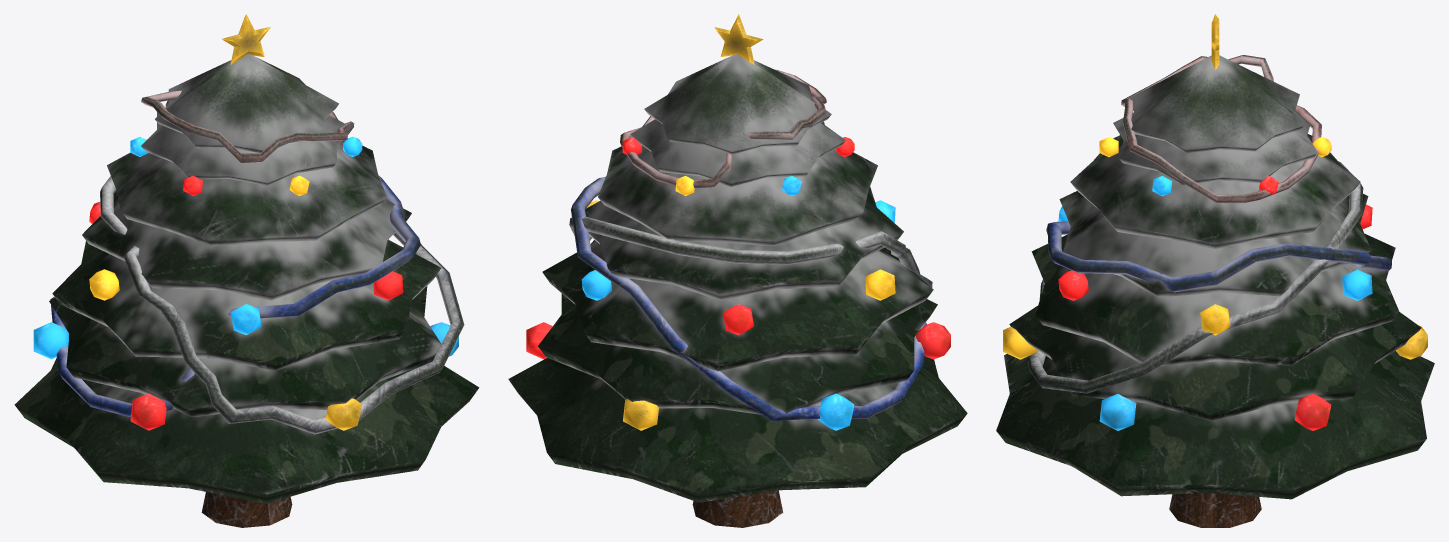
The model's file is Arbol Navidad.fbx.
3 views of the same model, side by side, from view 1: azimuth 30°, elevation 25°; view 2: azimuth 150°, elevation 25°; view 3: azimuth 270°, elevation 25° (orthographic).
Parts seen in each view (by area): view 1: Circle.001, Circle.002, Circle.005, Circle.003, Circle.006, Circle.004, BézierCurve, Circle.007, BézierCurve.001, Icosphere, BézierCurve.002, Icosphere.001 (+3 smaller); view 2: Circle.001, Circle.002, Circle.005, Circle.003, Circle.006, Circle.004, Circle.007, BézierCurve.001, BézierCurve, Icosphere, Icosphere.001, Circle (+3 smaller); view 3: Circle.001, Circle.002, Circle.005, Circle.003, Circle.006, Circle.004, Circle.007, BézierCurve.001, BézierCurve, Icosphere, BézierCurve.002, Circle (+2 smaller).
Boxes of the visible parts, bbox=[...] form: Circle.001: bbox=[14, 334, 479, 503]; Circle.002: bbox=[52, 239, 441, 370]; Circle.005: bbox=[49, 286, 441, 417]; Circle.003: bbox=[107, 140, 386, 246]; Circle.006: bbox=[82, 191, 411, 300]; Circle.004: bbox=[155, 54, 338, 152]; BézierCurve: bbox=[100, 176, 464, 434]; Circle.007: bbox=[141, 107, 352, 185]; BézierCurve.001: bbox=[50, 175, 420, 417]; Icosphere: bbox=[33, 322, 458, 430]; BézierCurve.002: bbox=[141, 90, 354, 162]; Icosphere.001: bbox=[89, 202, 403, 335]; Circle.001: bbox=[508, 356, 967, 502]; Circle.002: bbox=[542, 240, 933, 371]; Circle.005: bbox=[538, 293, 937, 414]; Circle.003: bbox=[598, 145, 877, 246]; Circle.006: bbox=[585, 186, 903, 300]; Circle.004: bbox=[644, 54, 831, 154]; Circle.007: bbox=[630, 119, 845, 186]; BézierCurve.001: bbox=[571, 176, 926, 420]; BézierCurve: bbox=[569, 216, 932, 287]; Icosphere: bbox=[526, 322, 950, 430]; Icosphere.001: bbox=[581, 200, 895, 335]; Circle: bbox=[692, 490, 783, 527]; Circle.001: bbox=[996, 350, 1434, 499]; Circle.002: bbox=[1031, 234, 1399, 366]; Circle.005: bbox=[1009, 306, 1421, 421]; Circle.003: bbox=[1070, 134, 1360, 248]; Circle.006: bbox=[1059, 191, 1371, 297]; Circle.004: bbox=[1128, 55, 1304, 153]; Circle.007: bbox=[1113, 112, 1317, 185]; BézierCurve.001: bbox=[1046, 221, 1391, 292]; BézierCurve: bbox=[1027, 161, 1363, 393]; Icosphere: bbox=[1003, 325, 1427, 430]; BézierCurve.002: bbox=[1121, 55, 1321, 202]; Circle: bbox=[1169, 493, 1261, 527].
Size of the model in its own units: 569 by 708 by 569.
